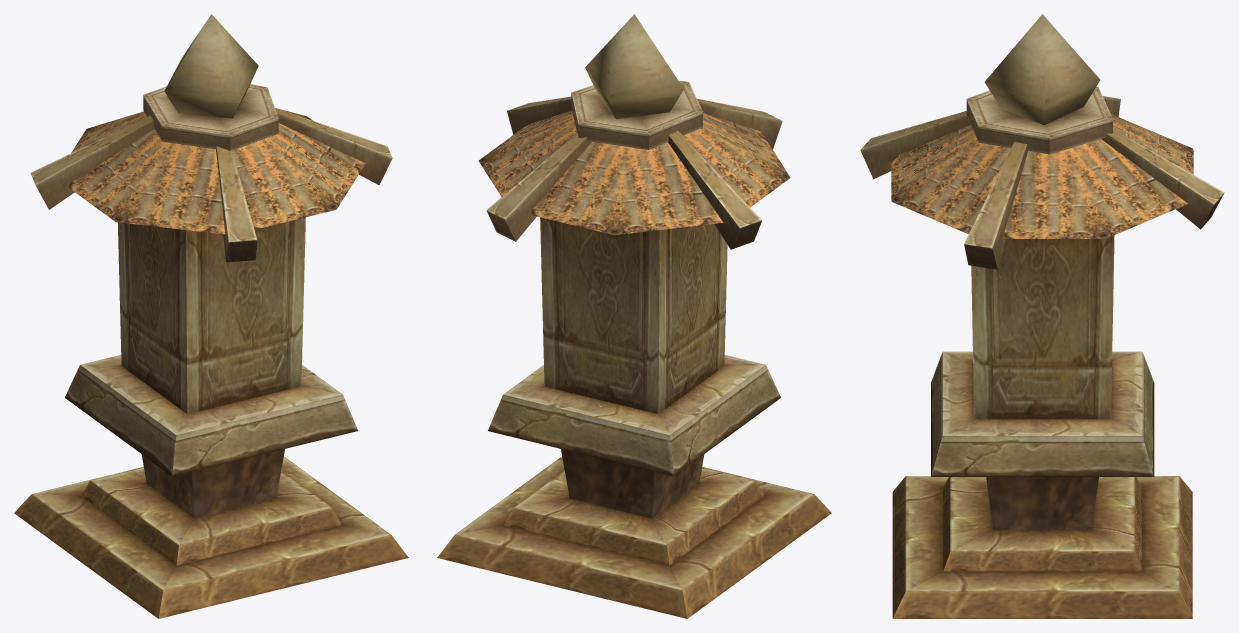
The model's file is oMscModPillar01A.FBX.
The picture shows the model from 3 angles, left to right: view 1: azimuth 30°, elevation 25°; view 2: azimuth 150°, elevation 25°; view 3: azimuth 270°, elevation 25°; orthographic projection. The views are drawn at different scales.
Parts seen in each view (by area): view 1: oMscModPillar01A; view 2: oMscModPillar01A; view 3: oMscModPillar01A.
Boxes of the visible parts, box(x1,y1,x2,y2) form: oMscModPillar01A: box(14, 14, 408, 618); oMscModPillar01A: box(437, 14, 831, 618); oMscModPillar01A: box(860, 14, 1224, 618).
Bounding box in the file's own units: 17.94 × 17.94 × 29.42.
